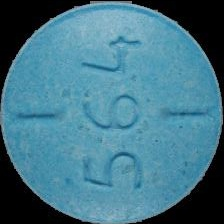21695-755: (0, 0, 224, 224)
